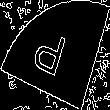P_S: (35, 25, 75, 85)
